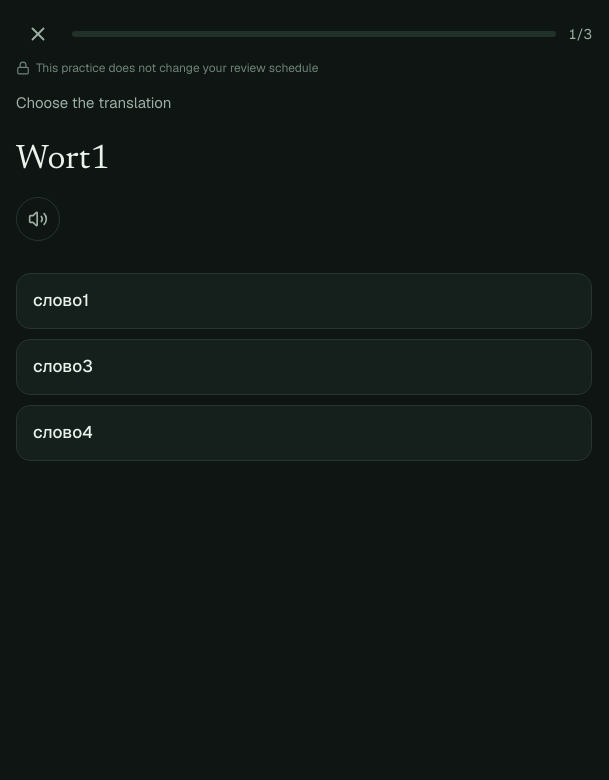
Test: the answer sheet › practice mode: the "boxes do not change" line, no box bar, no pulse
This screenshot has width=609, height=780.
Step 1. Click the button "слово1" → coordinates (61, 300), box [16,273,592,329]
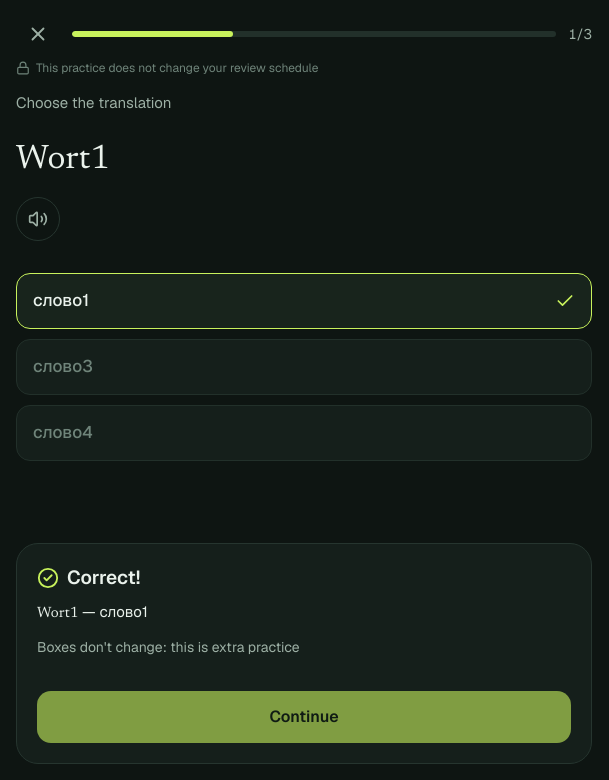
expect the text "Boxes don't change: this is extra practice" is shown: met, box [37,638,300,656]
